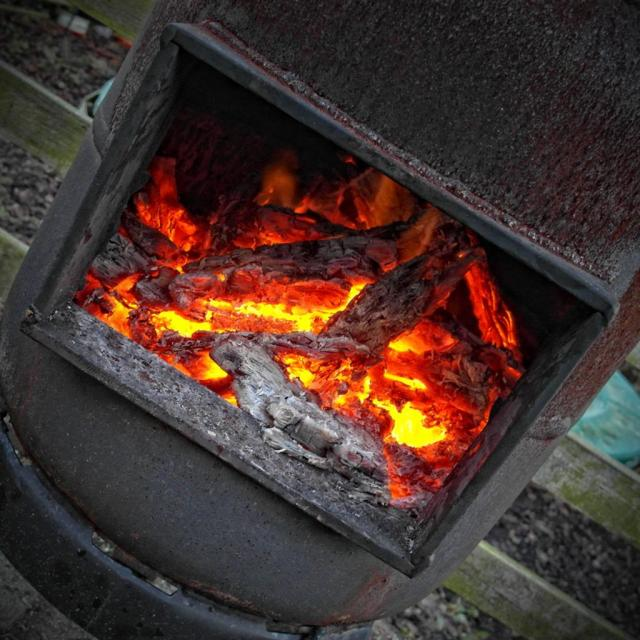Fire: (80, 128, 538, 530)
